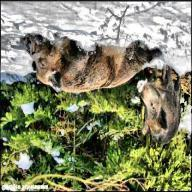boar: (24, 27, 163, 98), (135, 71, 189, 146)
